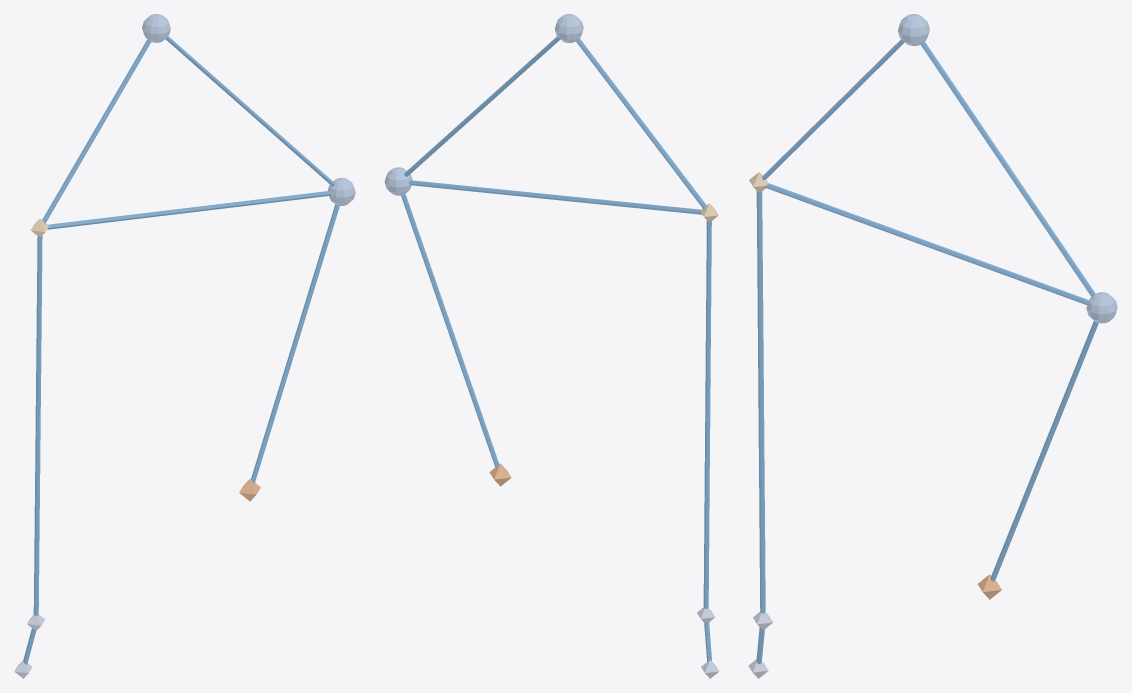
File: constellation-lib.glb
3 renders of one model, left to right at view 1: azimuth 30°, elevation 25°; view 2: azimuth 150°, elevation 25°; view 3: azimuth 330°, elevation 25°, orthographic. The views are drawn at different scales.
Bounding box in the file's own units: 1.23 × 2.21 × 0.1662.
